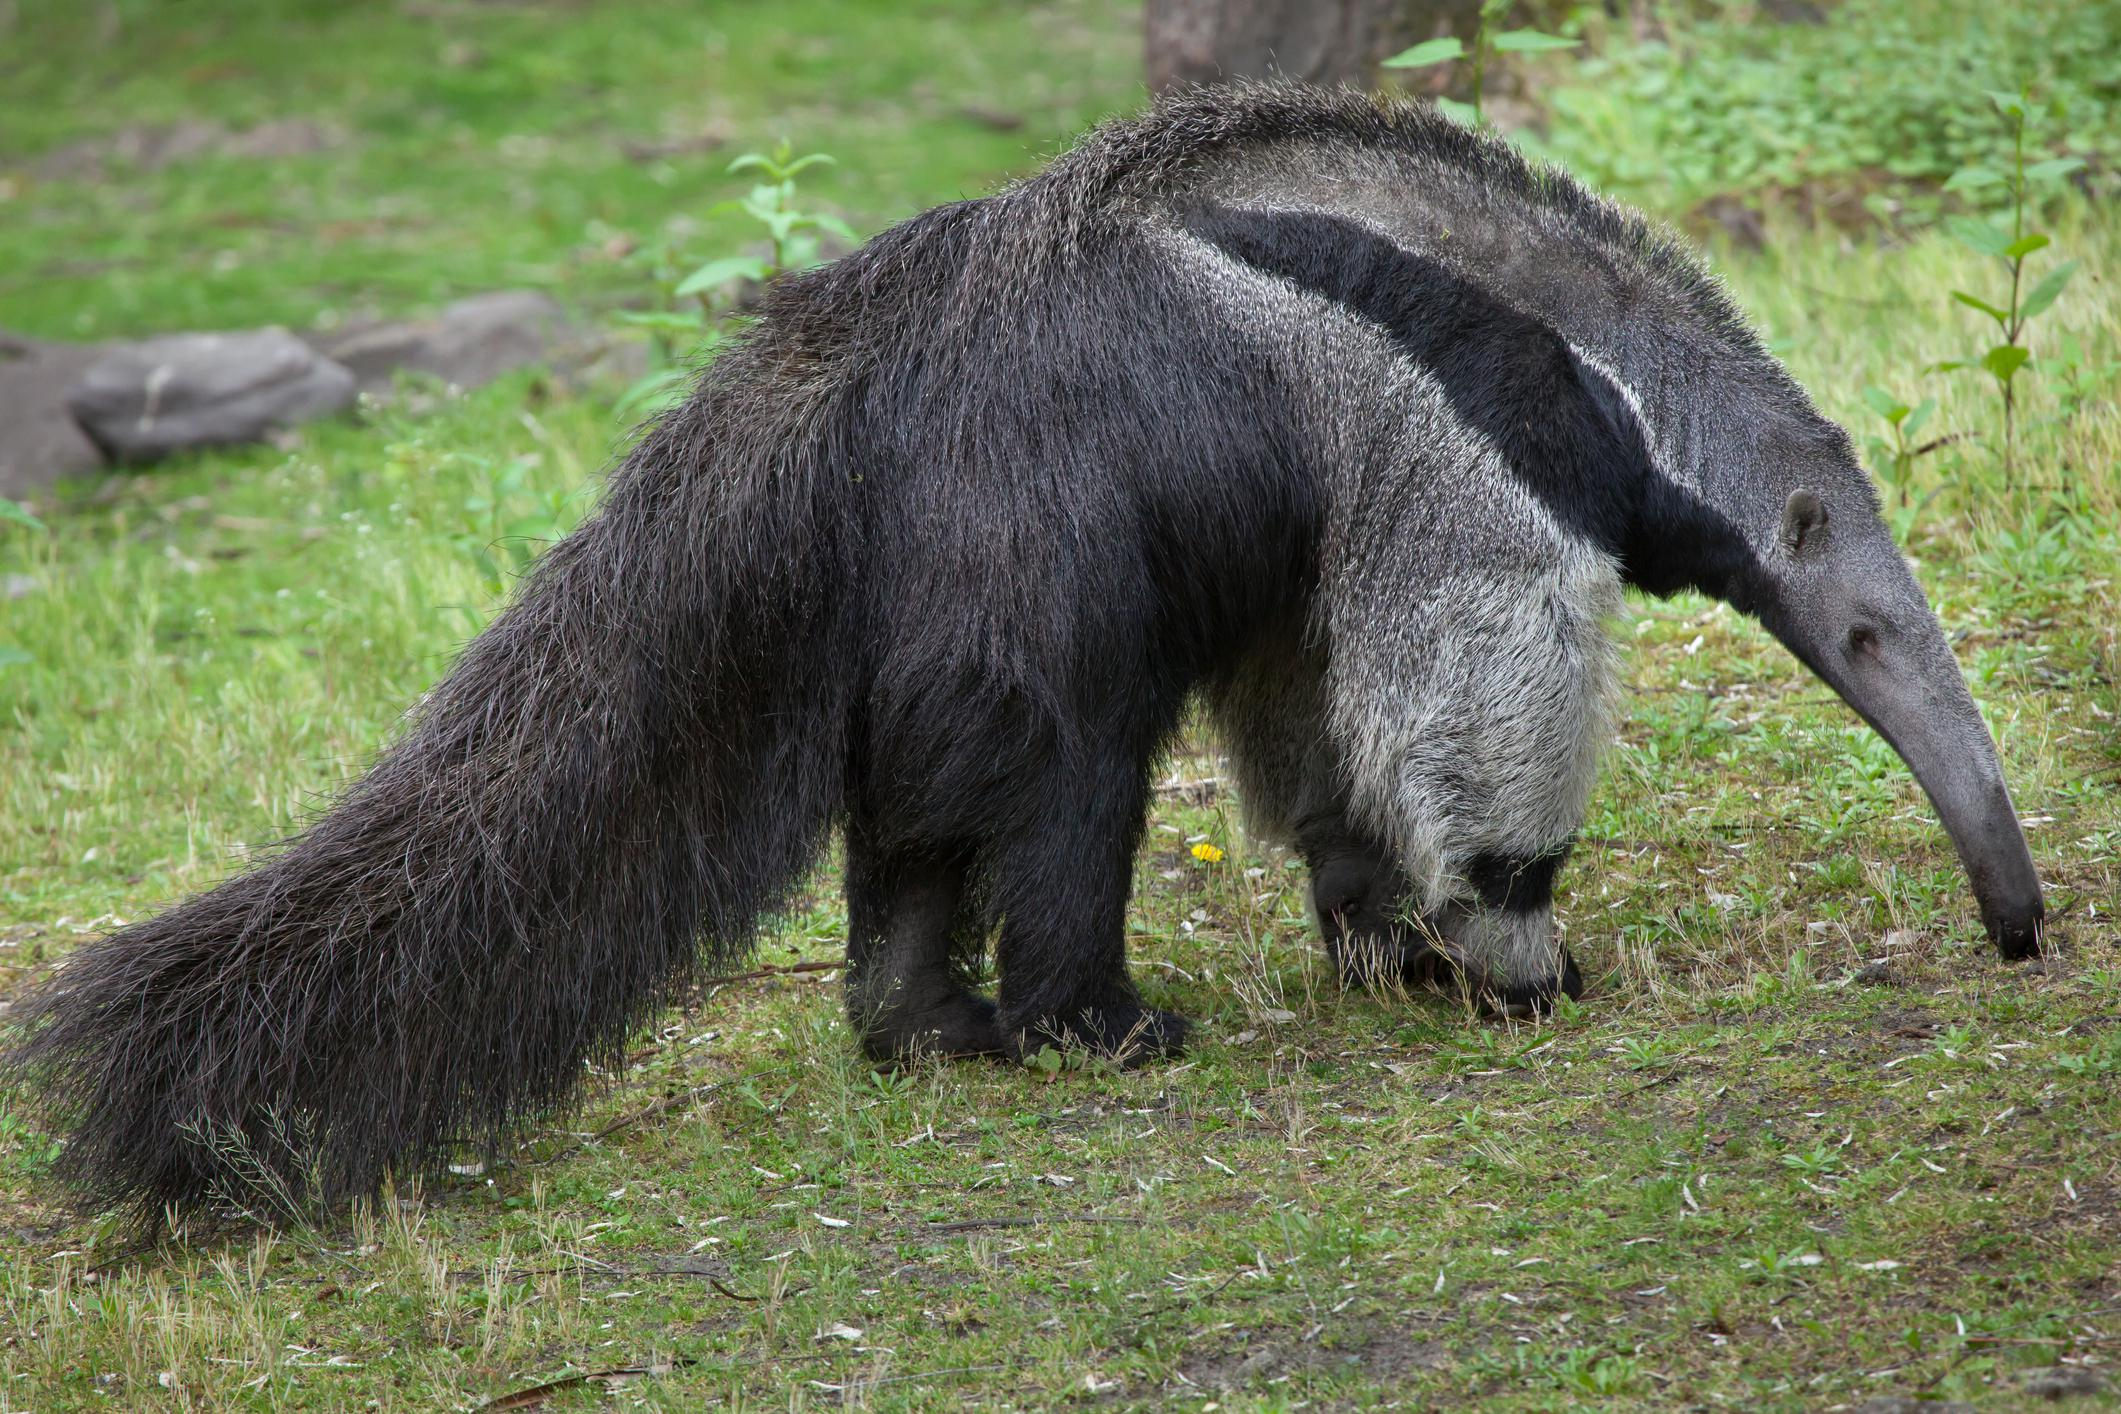TamanduaBandeira: (55, 66, 2056, 1116)
